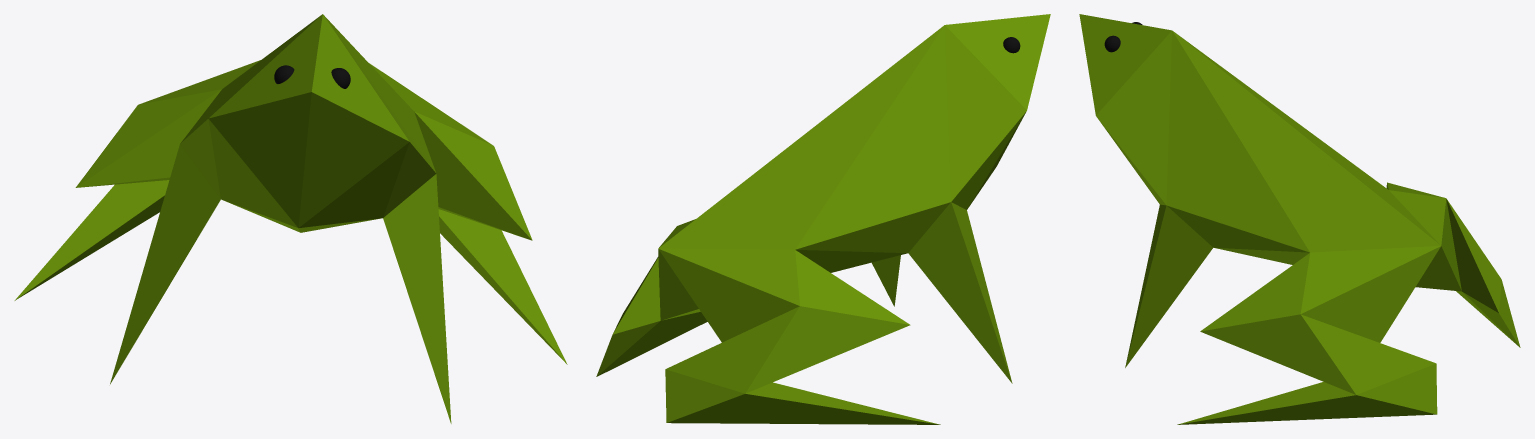
File: Frog.fbx
3 views of the same model, side by side, from view 1: azimuth 30°, elevation 25°; view 2: azimuth 150°, elevation 25°; view 3: azimuth 270°, elevation 25° (orthographic). The views are drawn at different scales.
Visible parts, largest first — view 1: rana60.001; view 2: rana60.001; view 3: rana60.001.
Boxes of the visible parts, bbox=[...] form: rana60.001: bbox=[14, 14, 567, 423]; rana60.001: bbox=[596, 14, 1050, 424]; rana60.001: bbox=[1079, 14, 1520, 424].
Bounding box in the file's own units: 76.76 × 68.5 × 89.72.
